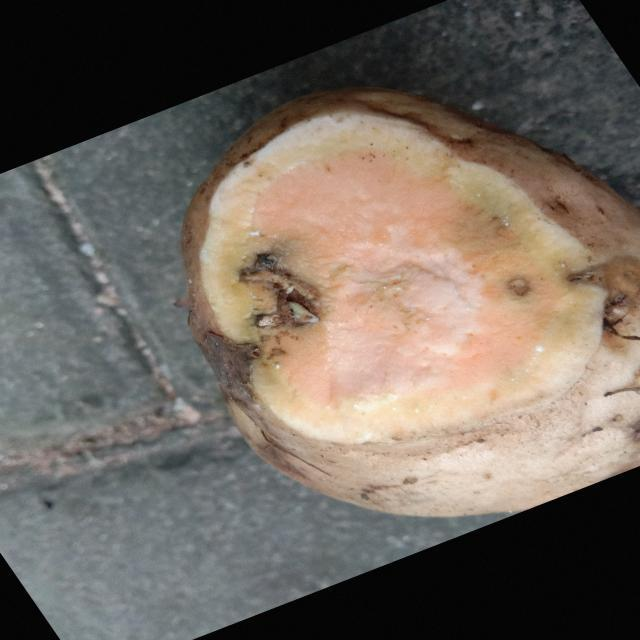Sick Sweet Potato_Tuber Rot: (200, 110, 605, 444)
